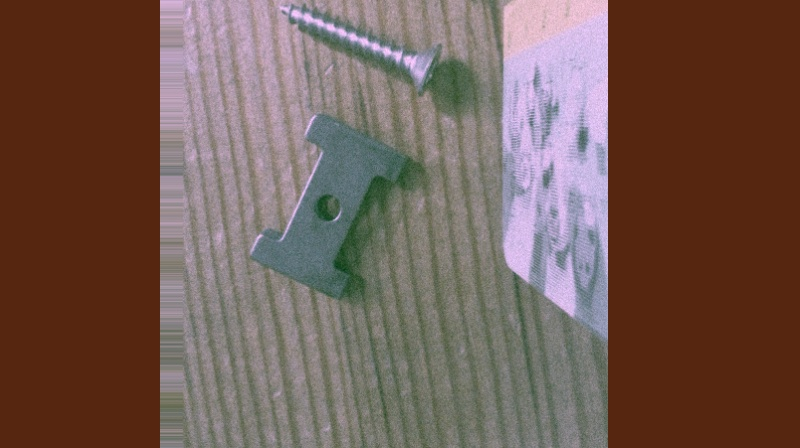O002: (248, 111, 411, 300)
S001: (278, 0, 443, 96)
